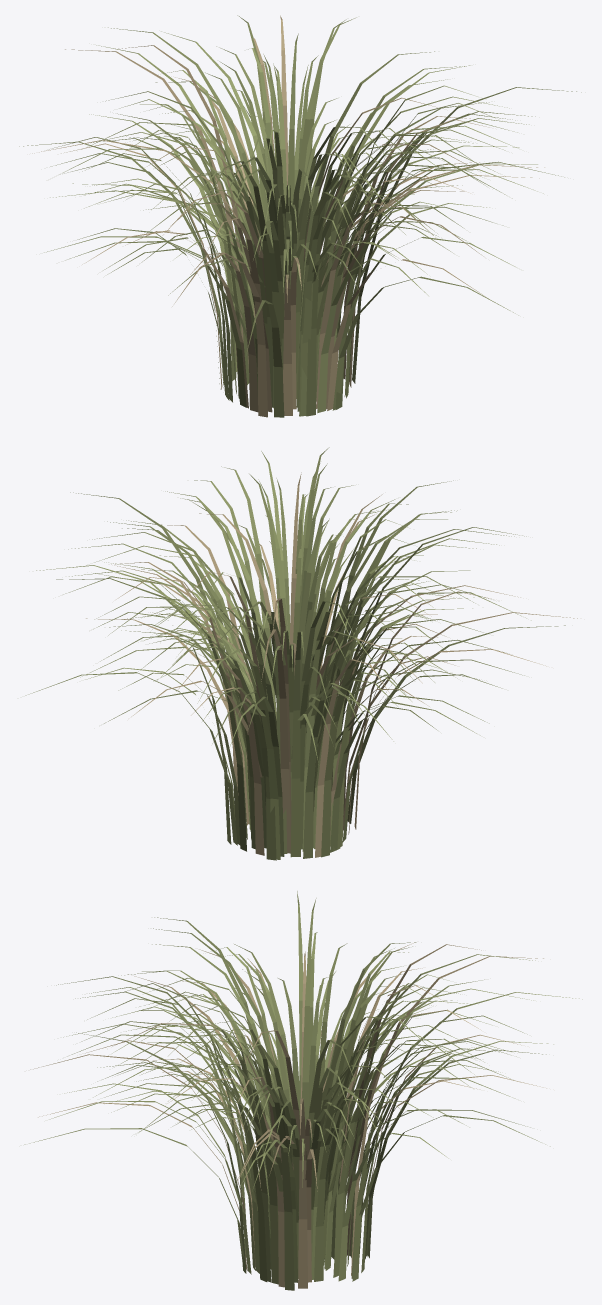
The model's file is lomandra-longifolia.glb.
3 renders of one model, top to bottom at view 1: azimuth 30°, elevation 25°; view 2: azimuth 150°, elevation 25°; view 3: azimuth 270°, elevation 25°, orthographic. The views are drawn at different scales.
Visible parts, largest first — view 1: lomandra-longifolia • arching individual blades; view 2: lomandra-longifolia • arching individual blades; view 3: lomandra-longifolia • arching individual blades.
Boxes of the visible parts, x1=… form: lomandra-longifolia • arching individual blades: x1=19, y1=15, x2=581, y2=417; lomandra-longifolia • arching individual blades: x1=25, y1=447, x2=577, y2=860; lomandra-longifolia • arching individual blades: x1=24, y1=891, x2=582, y2=1290.
Bounding box in the file's own units: 1.01 × 0.5772 × 1.03.
